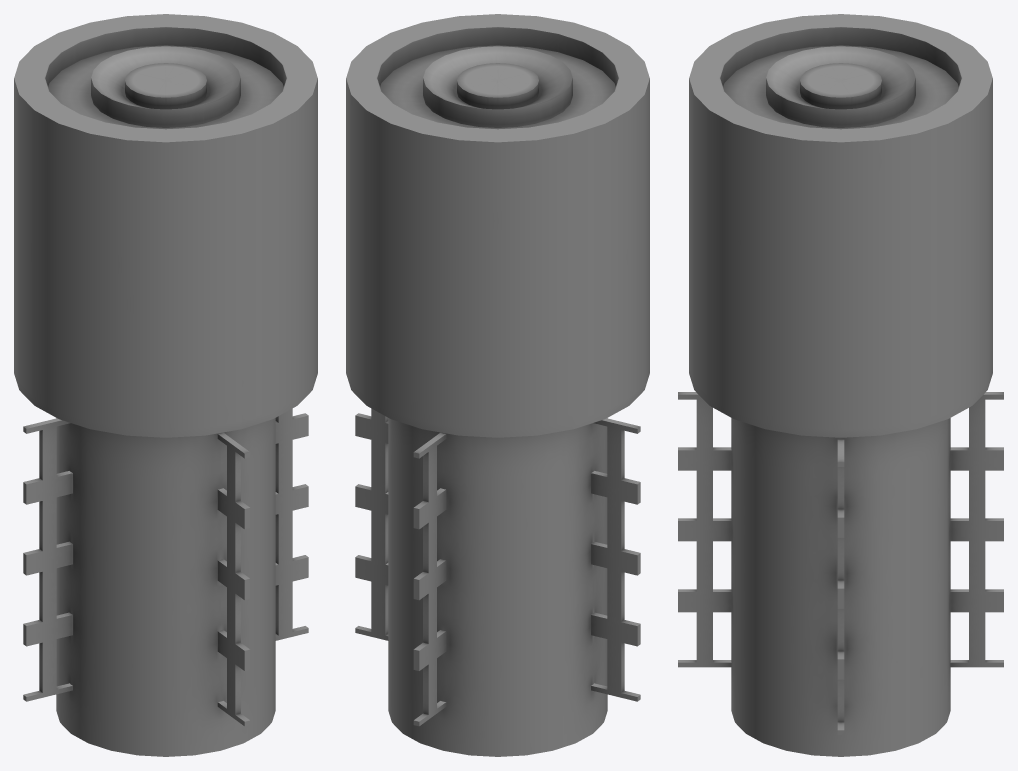
File: ATS1 Antenna.fbx
The picture shows the model from 3 angles, left to right: view 1: azimuth 30°, elevation 25°; view 2: azimuth 150°, elevation 25°; view 3: azimuth 270°, elevation 25°; orthographic projection.
Visible parts, largest first — view 1: ATS-1 Antenna, AntennaRib.001, AntennaRib.003, AntennaRib.002; view 2: ATS-1 Antenna, AntennaRib.001, AntennaRib.000, AntennaRib.002; view 3: ATS-1 Antenna, AntennaRib.000, AntennaRib.003, AntennaRib.002.
Part boxes in pixels (x1,y1,x2,y2): ATS-1 Antenna: [14, 14, 317, 756]; AntennaRib.001: [23, 418, 72, 701]; AntennaRib.003: [217, 432, 250, 726]; AntennaRib.002: [275, 408, 308, 640]; ATS-1 Antenna: [346, 14, 649, 756]; AntennaRib.001: [591, 418, 640, 701]; AntennaRib.000: [413, 432, 446, 726]; AntennaRib.002: [355, 408, 388, 640]; ATS-1 Antenna: [689, 14, 992, 756]; AntennaRib.000: [950, 392, 1003, 667]; AntennaRib.003: [678, 392, 731, 667]; AntennaRib.002: [837, 439, 844, 734].
Bounding box in the file's own units: 15.3 × 32.78 × 15.3.
1 material, 1 textured.
